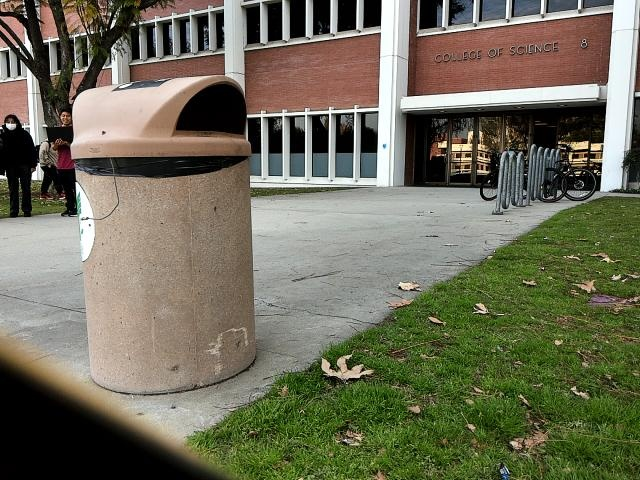trashcan: (58, 79, 266, 384)
